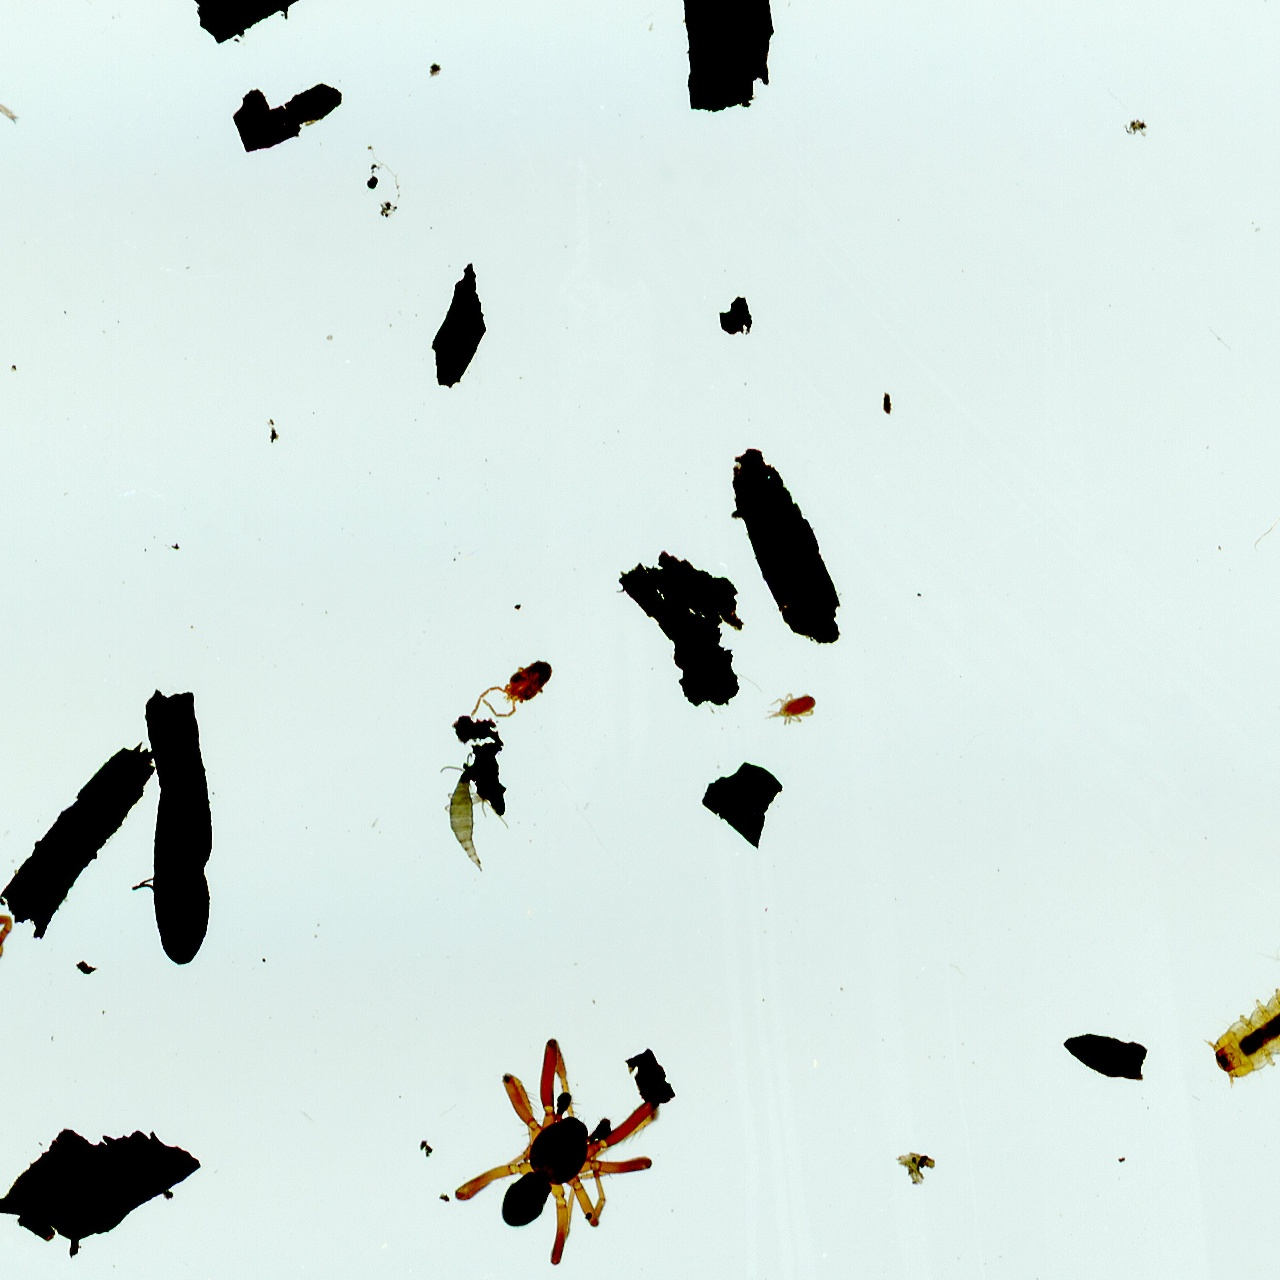arthropod: (453, 1035, 657, 1264), (1201, 873, 1280, 1084), (442, 756, 486, 874), (470, 659, 553, 717), (766, 692, 820, 726)
